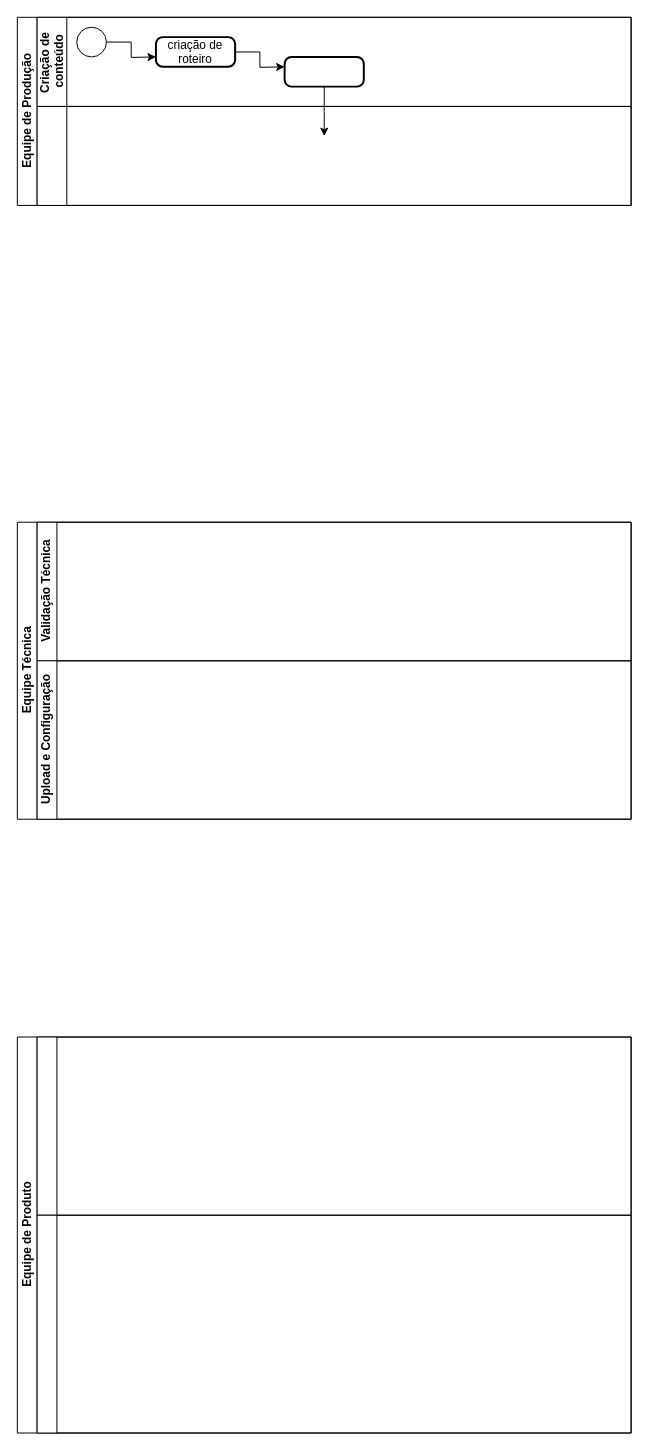
This 648x1450 diagram has some shape labels left out. Each missing label, with the centre of its shape:
"Aprovação e A gendamento" goes at [333,1125].
"Edição e Finalização" goes at [333,155].
"gravação de conteúdo" goes at [323,71].
"Monitoriamento Pós-Lançamento" goes at [333,1323].
